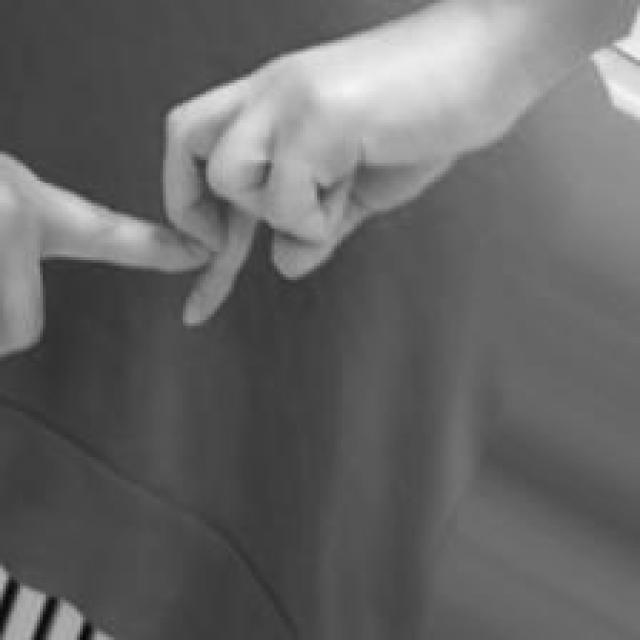R: (3, 0, 640, 373)
